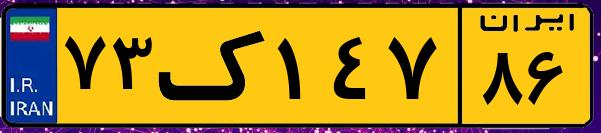1: (270, 28, 330, 110)
3: (110, 28, 158, 98)
4: (330, 28, 385, 110)
6: (525, 38, 570, 115)
7: (385, 28, 445, 110), (57, 26, 110, 100)
8: (475, 38, 525, 113)
ک: (158, 12, 270, 120)
